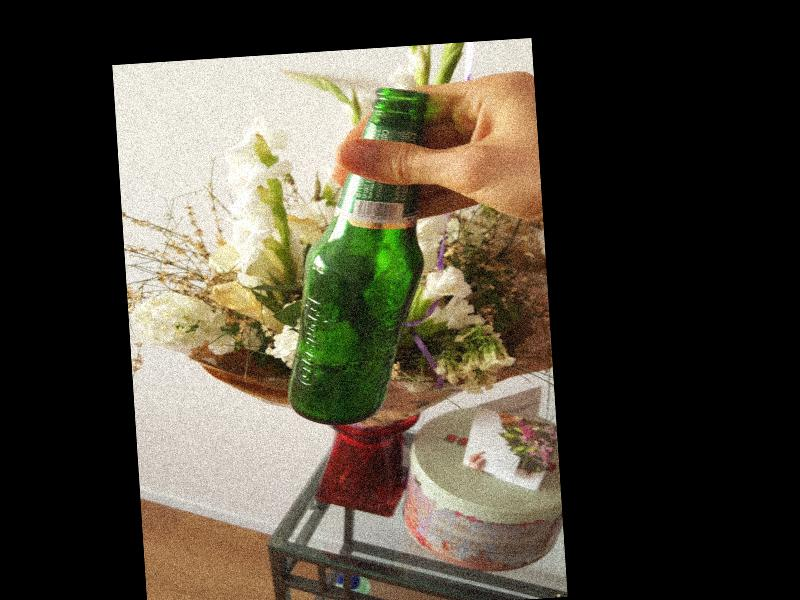Beer: (269, 86, 434, 428)
